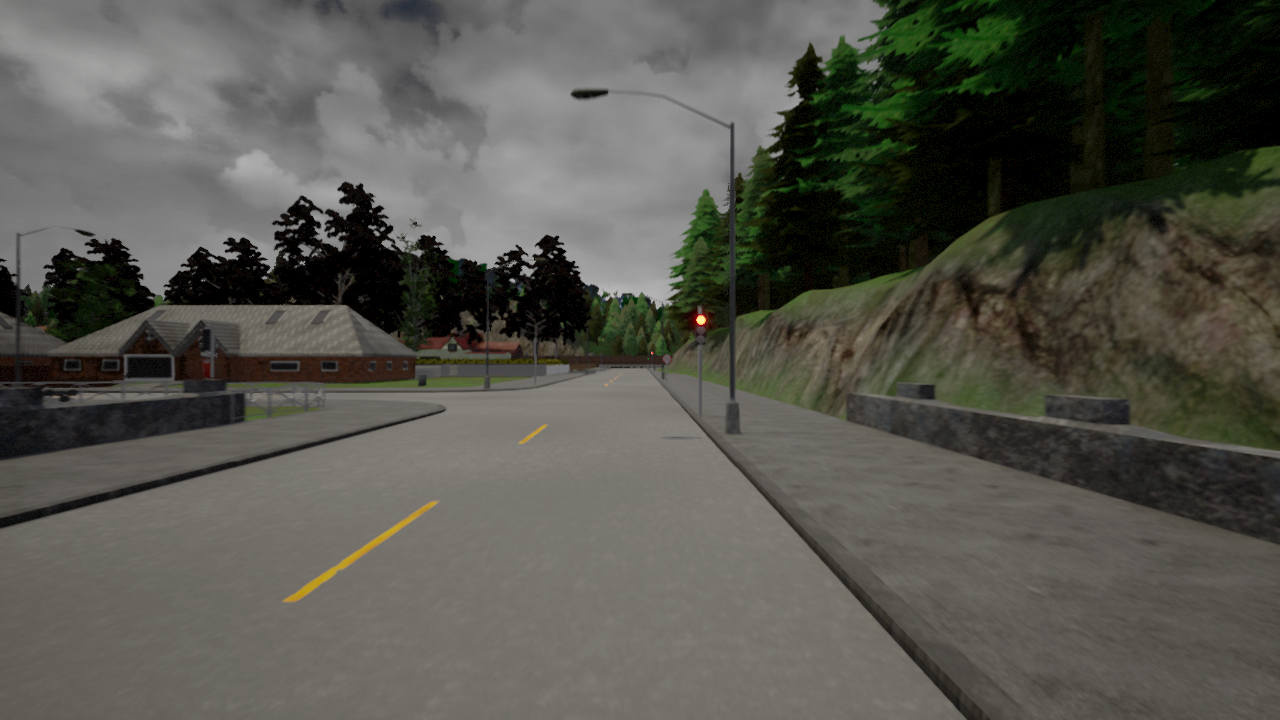red: (694, 314, 707, 347)
